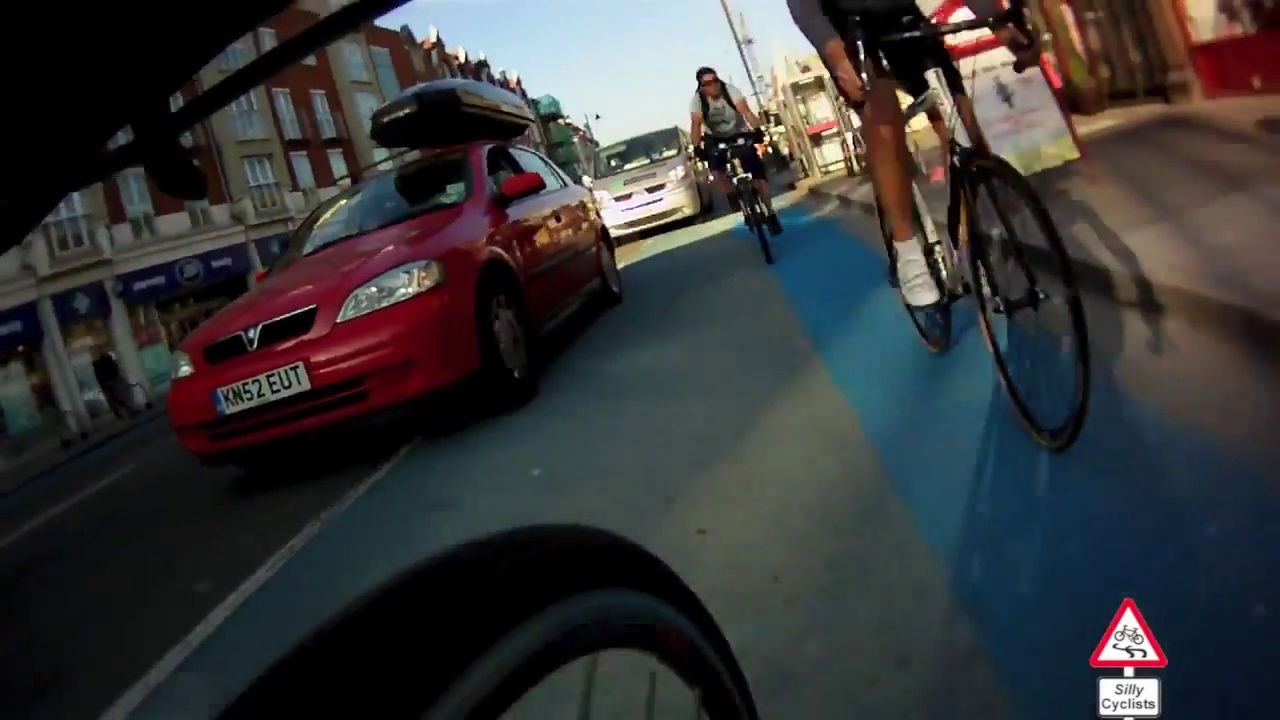cyclist_front: (686, 56, 797, 279)
